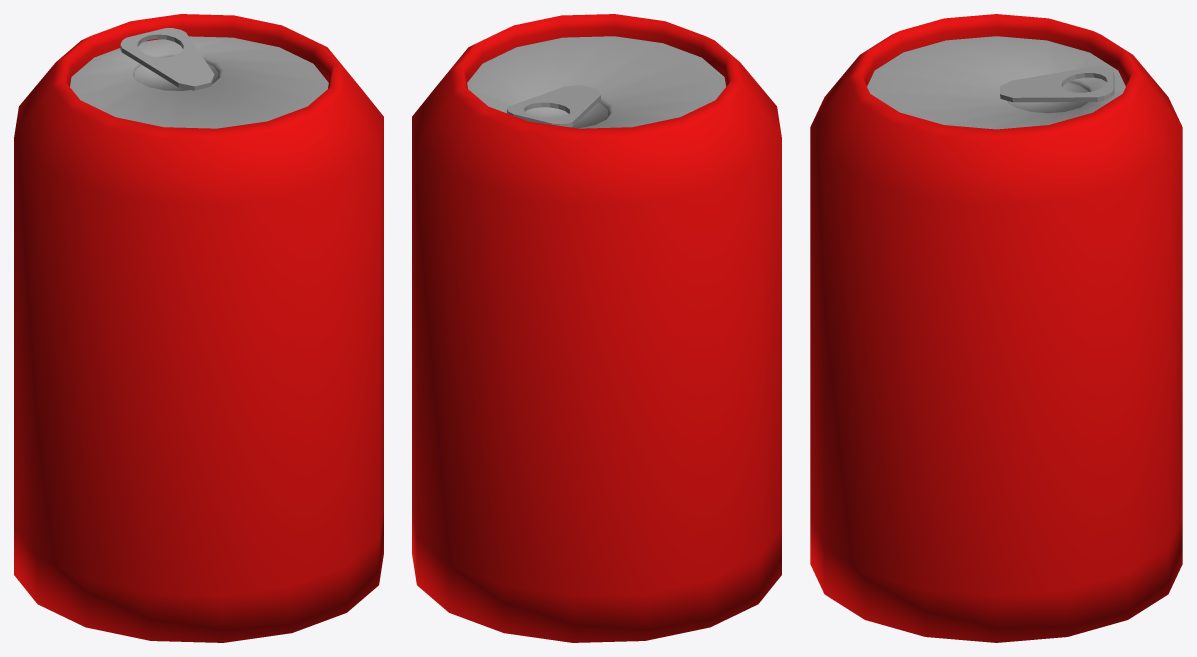
File: red_can.fbx
The picture shows the model from 3 angles, left to right: view 1: azimuth 30°, elevation 25°; view 2: azimuth 150°, elevation 25°; view 3: azimuth 270°, elevation 25°; orthographic projection.
Visible parts, largest first — view 1: Cylinder.007; view 2: Cylinder.007; view 3: Cylinder.007.
Part boxes in pixels (x1=…): Cylinder.007: x1=14, y1=14, x2=383, y2=642; Cylinder.007: x1=412, y1=14, x2=781, y2=642; Cylinder.007: x1=810, y1=14, x2=1182, y2=642.
Bounding box in the file's own units: 66.41 × 96.98 × 66.41.
